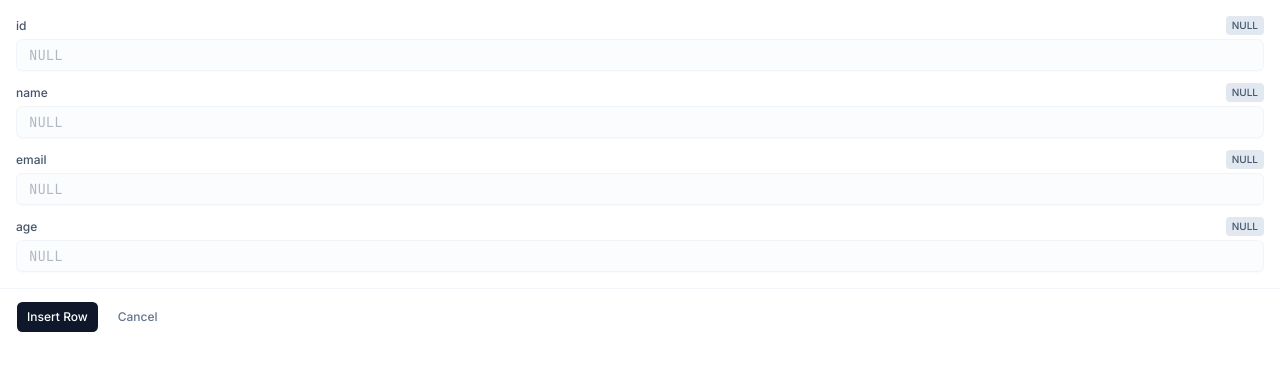
Scenario: InsertRowPanel › shows error message when insert fails
The image size is (1280, 391).
Click the button "Insert Row" at (57, 317), box [16,301,99,333]
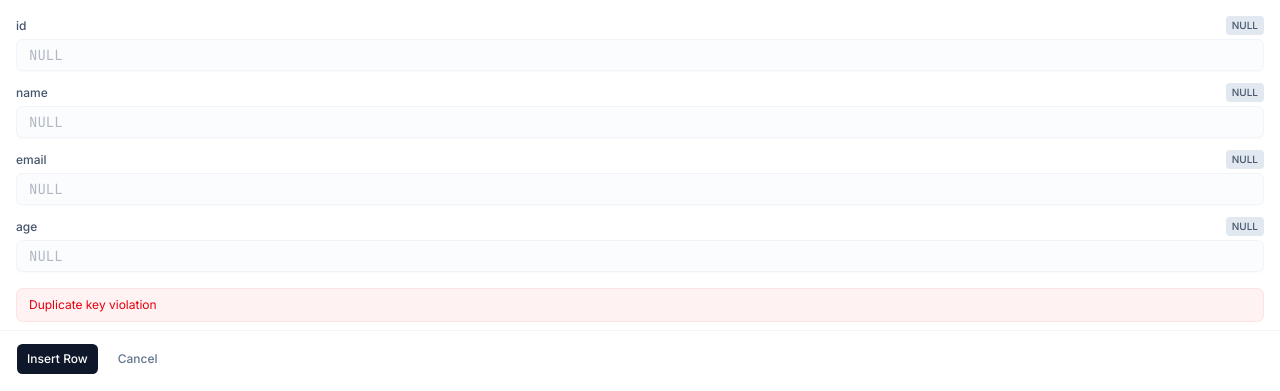
Now the text "Duplicate key violation" is shown, box [16,288,1264,322]
